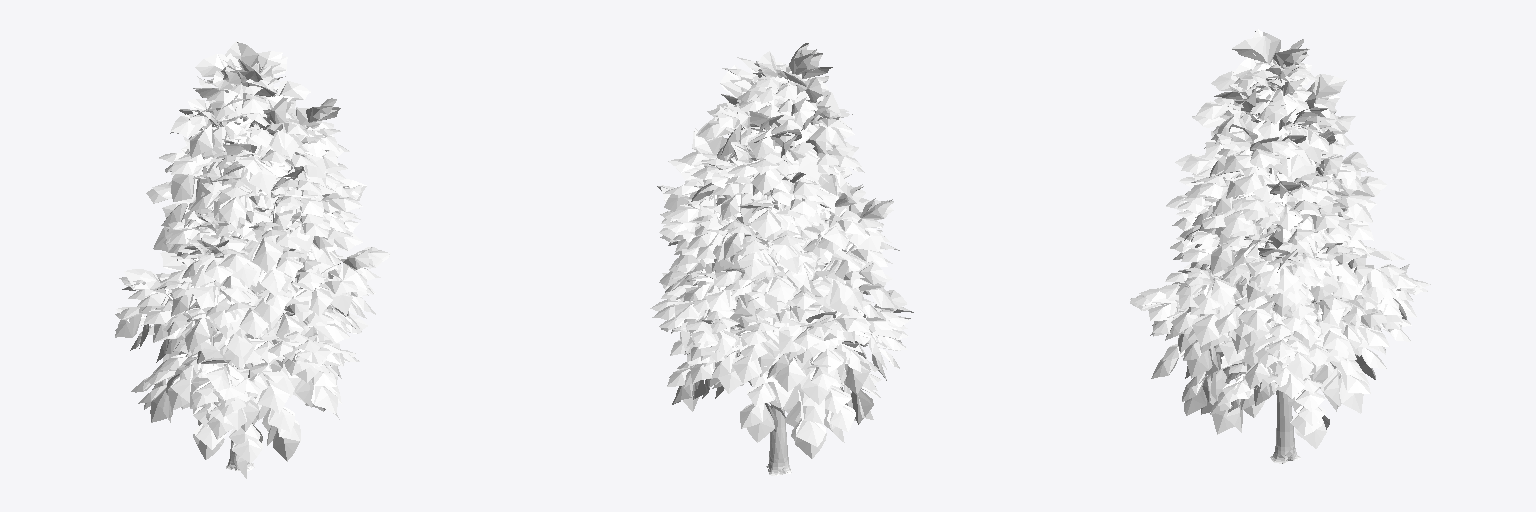
The model's file is Tree.obj.
The picture shows the model from 3 angles: view 1: azimuth 30°, elevation 25°; view 2: azimuth 150°, elevation 25°; view 3: azimuth 270°, elevation 25°; orthographic projection.
Parts seen in each view (by area): view 1: Tree_Tree_DB2X2_L01; view 2: Tree_Tree_DB2X2_L01, Tree_Tree_Trank_bark; view 3: Tree_Tree_DB2X2_L01, Tree_Tree_Trank_bark.
Part boxes in pixels (x1,y1,x2,y2): Tree_Tree_DB2X2_L01: (115, 41, 390, 478); Tree_Tree_DB2X2_L01: (650, 43, 913, 458); Tree_Tree_Trank_bark: (714, 71, 871, 475); Tree_Tree_DB2X2_L01: (1130, 29, 1430, 448); Tree_Tree_Trank_bark: (1178, 87, 1316, 463).
Size of the model in its own units: 4.24 by 7.59 by 4.99.